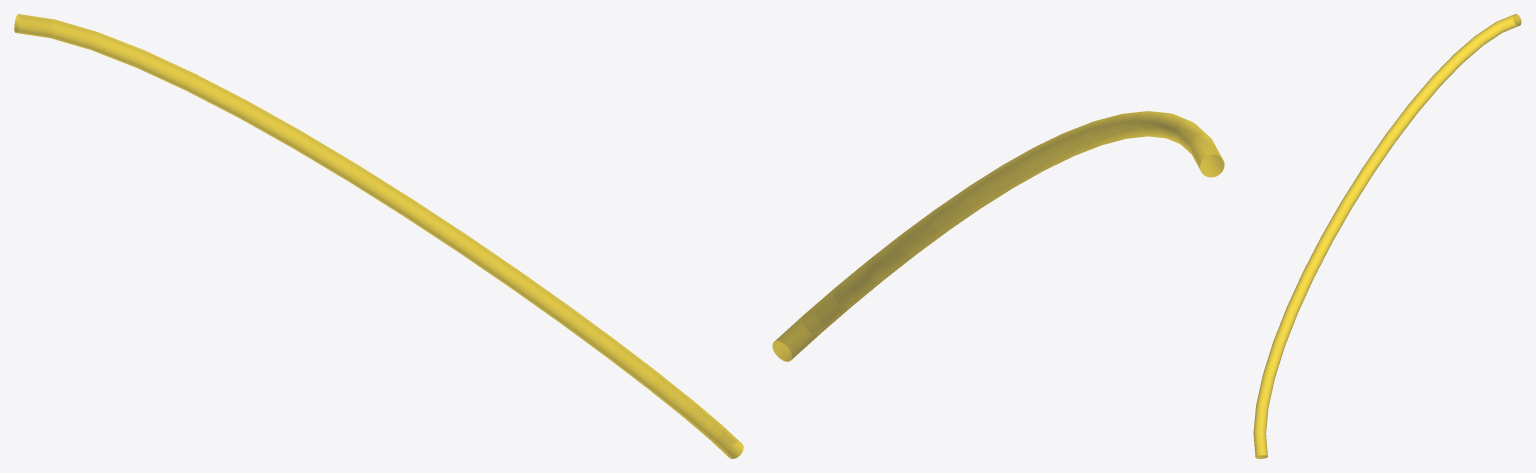
File: Event_27938768_track_40.fbx
The picture shows the model from 3 angles, left to right: view 1: azimuth 30°, elevation 25°; view 2: azimuth 150°, elevation 25°; view 3: azimuth 270°, elevation 25°; orthographic projection. The views are drawn at different scales.
Parts seen in each view (by area): view 1: Model; view 2: Model; view 3: Model.
Boxes of the visible parts, x1=… form: Model: x1=14, y1=14, x2=743, y2=458; Model: x1=772, y1=111, x2=1224, y2=361; Model: x1=1253, y1=14, x2=1521, y2=458.
Size of the model in its own units: 1.28 by 0.9751 by 0.8479.
